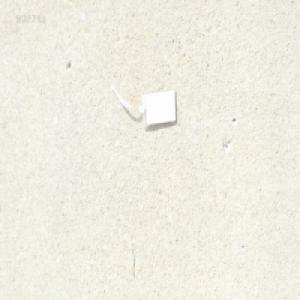LuggageTag: (109, 70, 180, 128)
